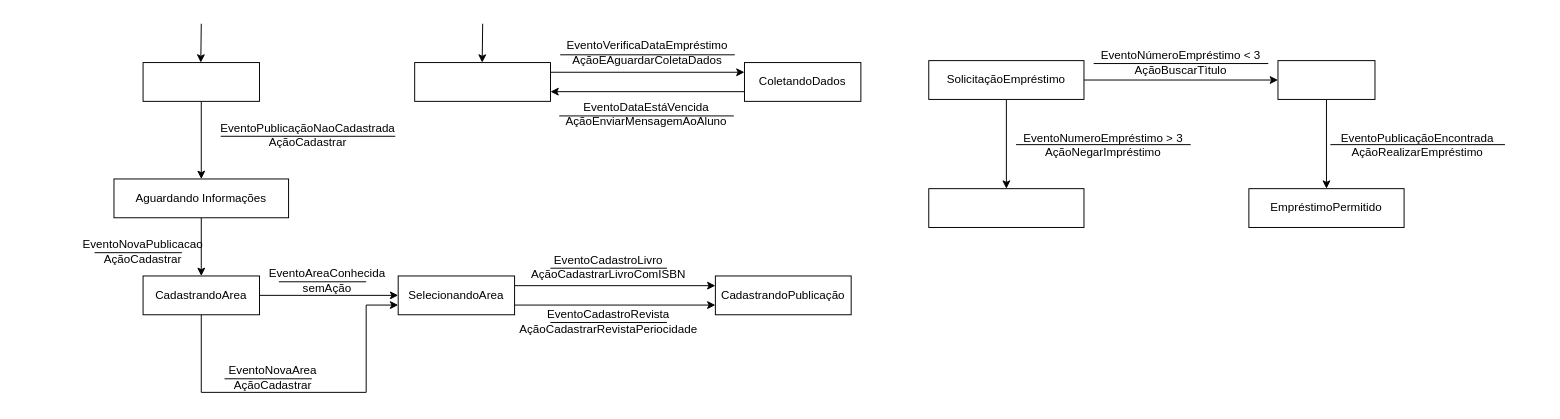
This 1560x419 diagram has some shape labels left out. Each missing label, with the centre of its shape:
"buscandoTítulos" belongs at point (1326, 79).
"CadastroPublicacao" belongs at point (200, 81).
"EmpréstimoNãoPermitido" belongs at point (1006, 207).
"EmpréstimoPublicações" belongs at point (482, 81).
